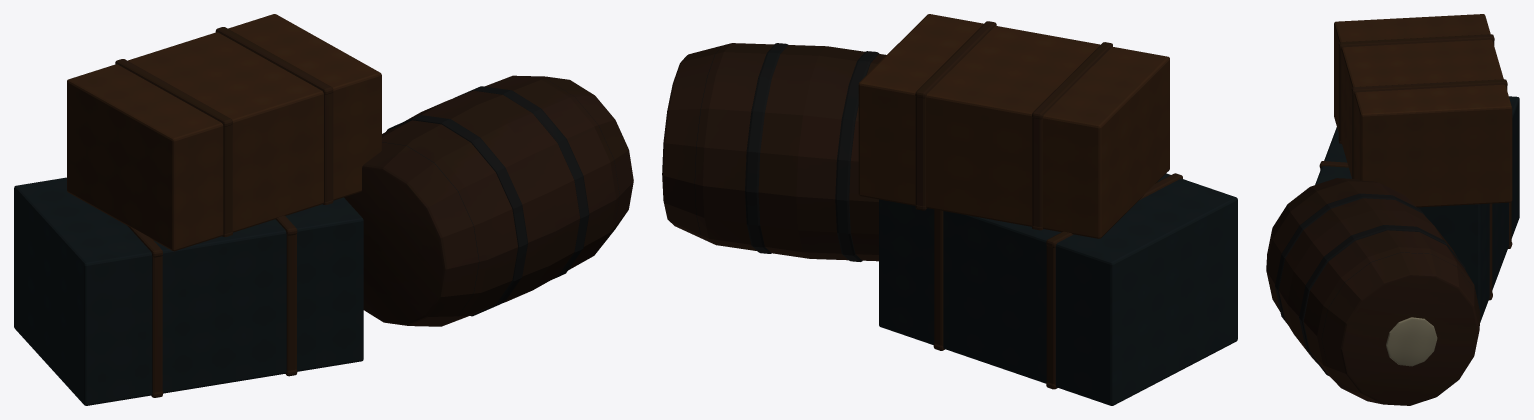
The model's file is western_cloth_salt.glb.
3 views of the same model, side by side, from view 1: azimuth 30°, elevation 25°; view 2: azimuth 150°, elevation 25°; view 3: azimuth 270°, elevation 25° (orthographic). The views are drawn at different scales.
Parts seen in each view (by area): view 1: WesternClothSaltCargo; view 2: WesternClothSaltCargo; view 3: WesternClothSaltCargo.
Part boxes in pixels (<box>): WesternClothSaltCargo: <box>14,14,633,405</box>; WesternClothSaltCargo: <box>662,14,1237,405</box>; WesternClothSaltCargo: <box>1266,14,1519,405</box>.
Size of the model in its own units: 1.51 by 0.6912 by 0.7143.
6 materials, 6 textured.
